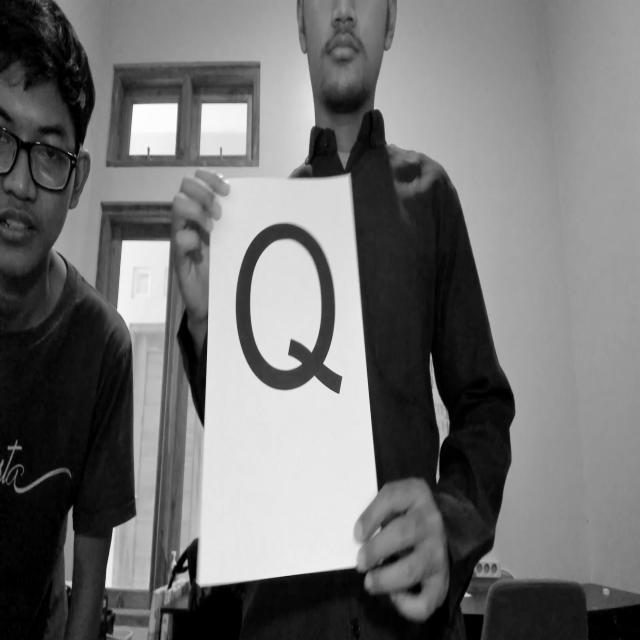q: (228, 215, 358, 416)
